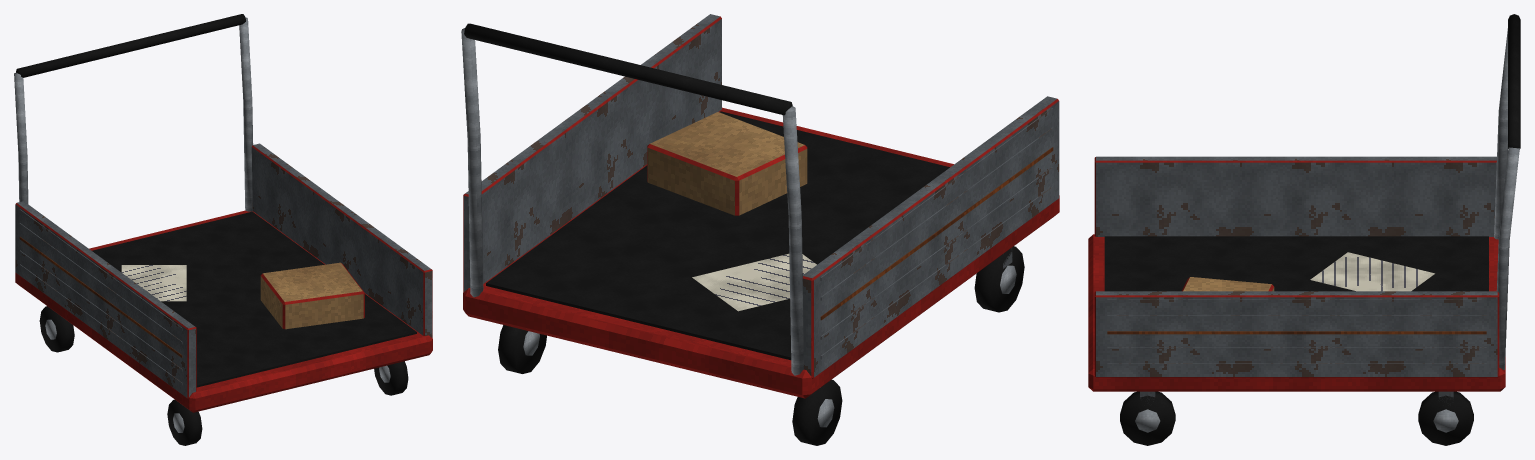
File: Cart.fbx
3 views of the same model, side by side, from view 1: azimuth 30°, elevation 25°; view 2: azimuth 150°, elevation 25°; view 3: azimuth 270°, elevation 25° (orthographic). The views are drawn at different scales.
Visible parts, largest first — view 1: Cart; view 2: Cart; view 3: Cart.
Boxes of the visible parts, x1,y1,x2,y2 form: Cart: [14, 14, 432, 445]; Cart: [461, 14, 1059, 445]; Cart: [1088, 14, 1520, 445].
Size of the model in its own units: 1.32 by 1.33 by 1.71.
